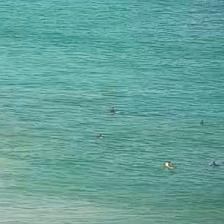surfer: (211, 161, 222, 167), (110, 108, 116, 114), (166, 162, 172, 168), (97, 133, 103, 138), (199, 120, 205, 125)
